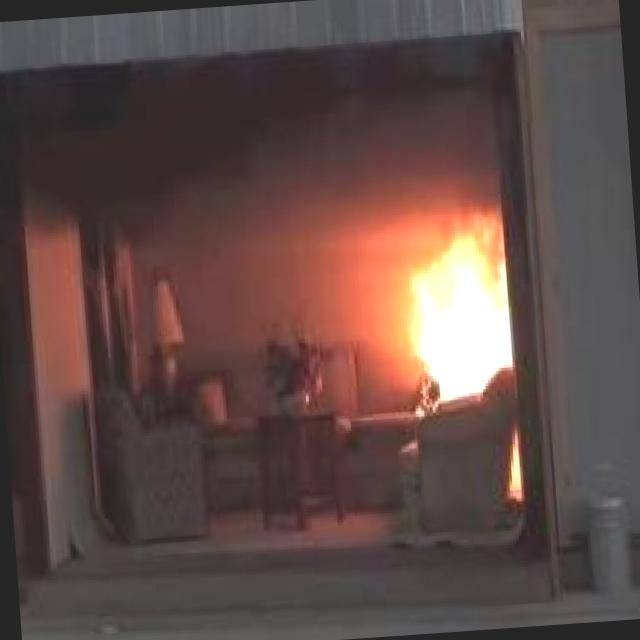fire: (380, 212, 542, 408)
smoke: (0, 34, 535, 282)
